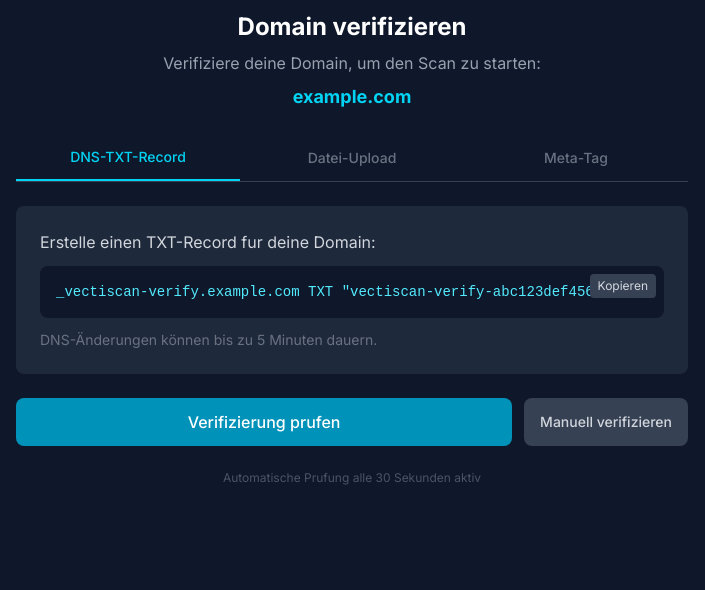
Test: VerifyPage › should switch between tabs
The width and height of the screenshot is (705, 590).
Switch to file tab
Click the button with test id "tab-file".
click(352, 158)  # box [240,135,464,181]
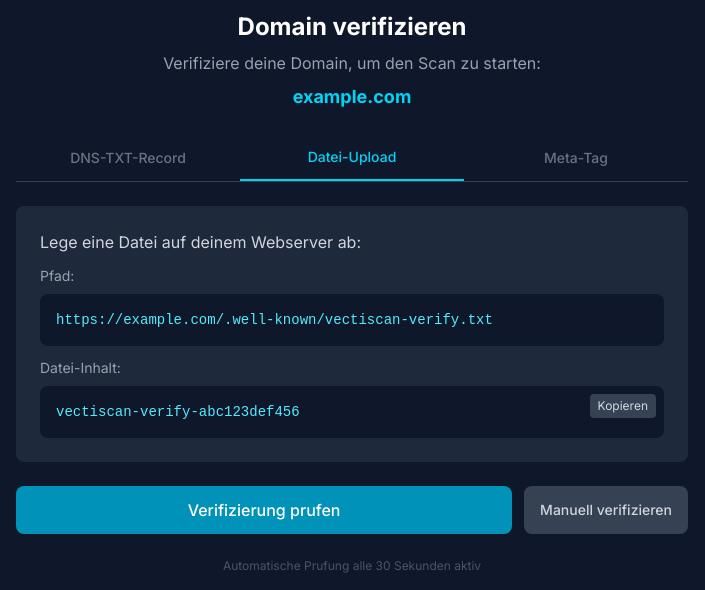
Expected: the element with test id "tab-content-file" is shown, [40,230,664,438]
Switch to meta tag tab
Click the button with test id "tab-meta_tag".
click(576, 158)  # box [464,135,688,181]
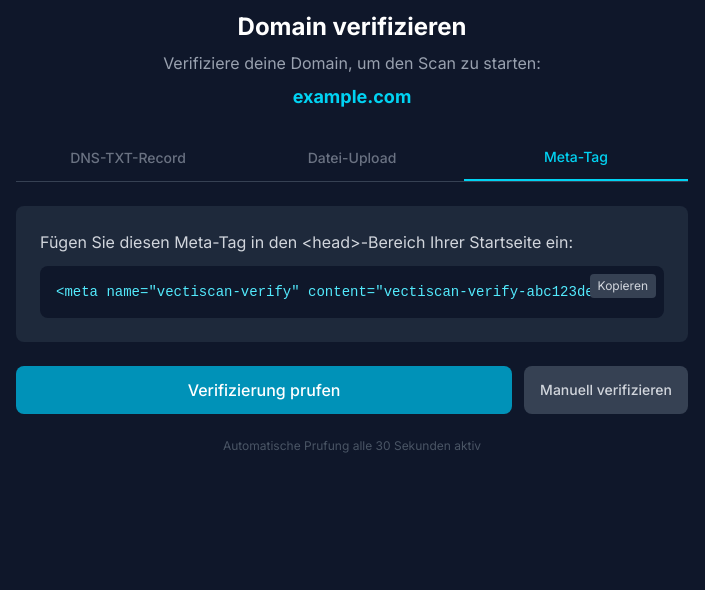
Expected: the element with test id "tab-content-meta_tag" is shown, [40,230,664,318]
Switch back to DNS
Click the button with test id "tab-dns_txt".
click(128, 158)  # box [16,135,240,181]
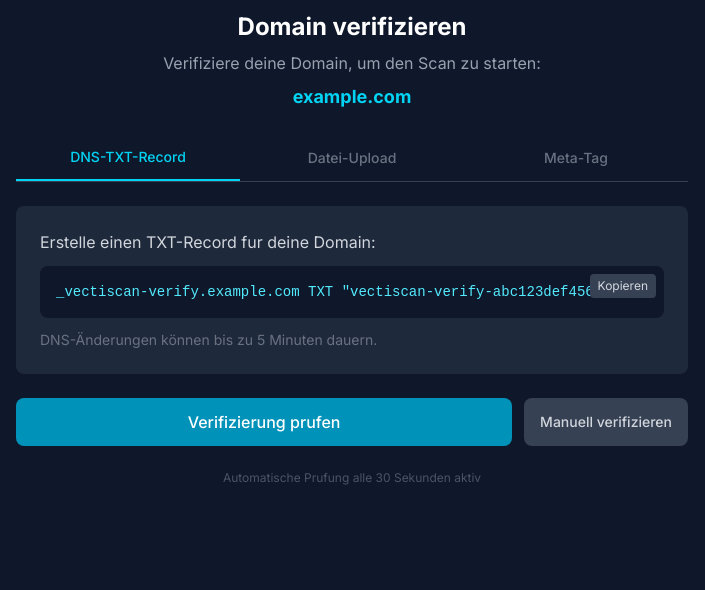
Expected: the element with test id "tab-content-dns_txt" is shown, [40,230,664,350]
